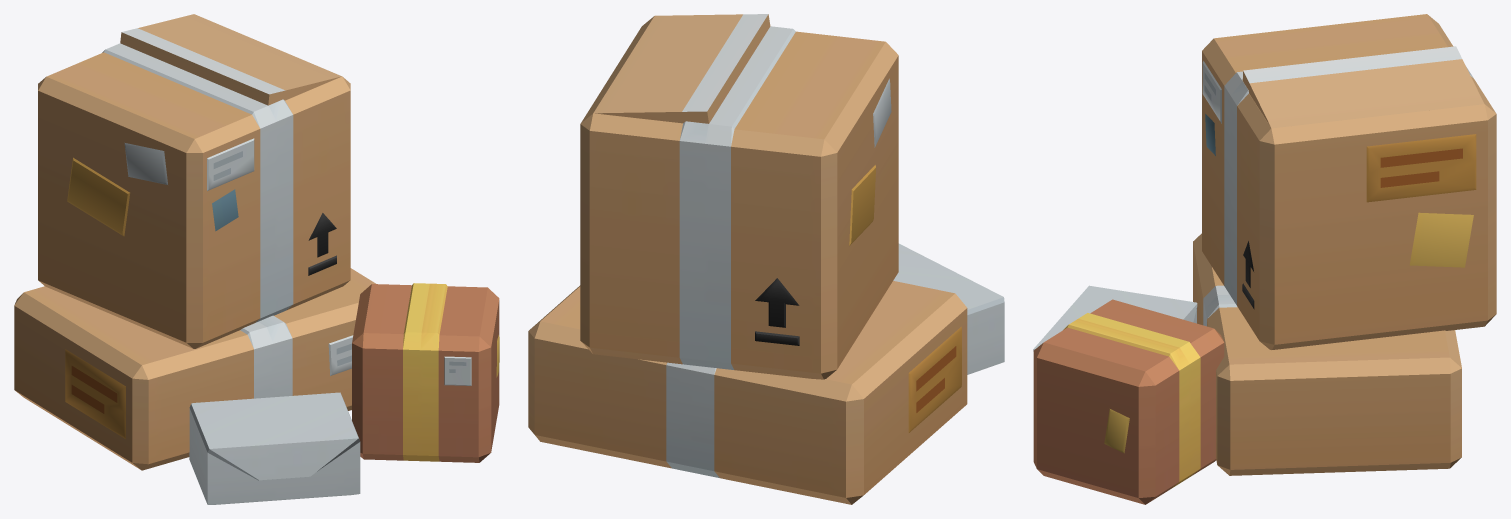
Rendered from containers_pile_small.glb.
The picture shows the model from 3 angles, left to right: view 1: azimuth 30°, elevation 25°; view 2: azimuth 150°, elevation 25°; view 3: azimuth 270°, elevation 25°; orthographic projection. The views are drawn at different scales.
Parts seen in each view (by area): view 1: Containers_Pile_Small; view 2: Containers_Pile_Small; view 3: Containers_Pile_Small.
Part boxes in pixels (x1=…): Containers_Pile_Small: x1=14, y1=14, x2=499, y2=504; Containers_Pile_Small: x1=528, y1=14, x2=1004, y2=504; Containers_Pile_Small: x1=1033, y1=14, x2=1496, y2=504.
Size of the model in its own units: 1.3 by 1.17 by 1.41.
Materials: 1 (1 with a texture image).
